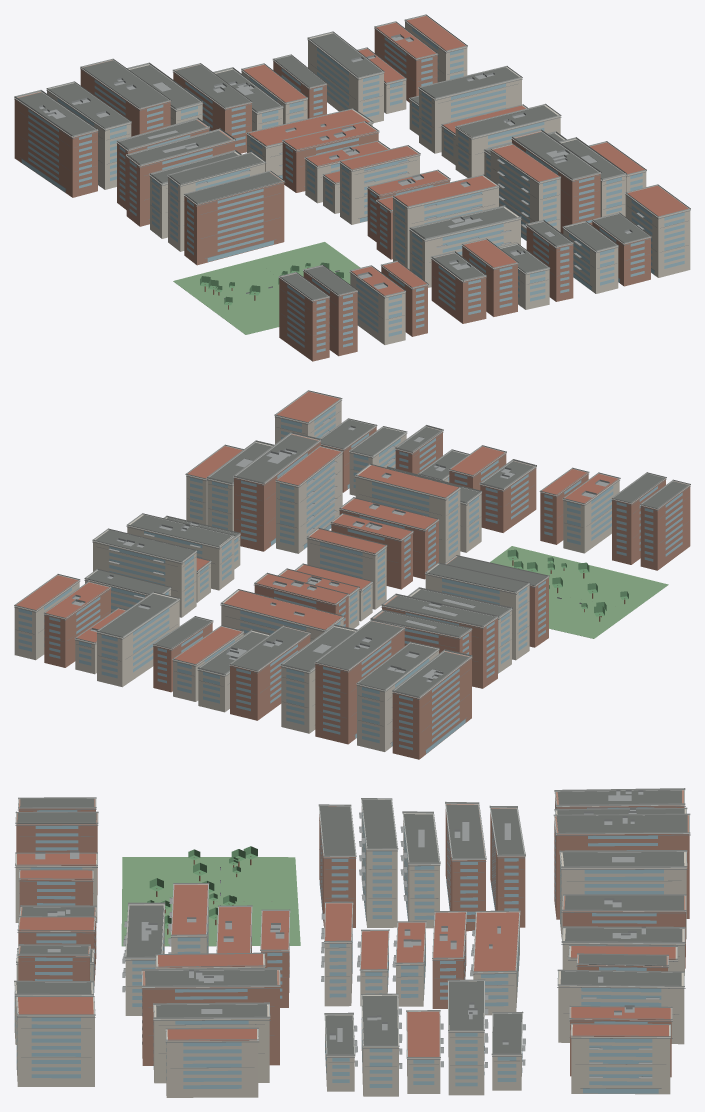
Rendered from tile-p002-p002.glb.
3 renders of one model, top to bottom at view 1: azimuth 30°, elevation 25°; view 2: azimuth 150°, elevation 25°; view 3: azimuth 270°, elevation 25°, orthographic. The views are drawn at different scales.
Parts seen in each view (by area): view 1: neighborhood-park-block-281-mesh-0, building-1113-mesh-27, building-1118-mesh-57, building-1109-mesh-5, building-1259-mesh-238, building-1251-mesh-201, building-1263-mesh-265, building-1253-mesh-207, building-1186-mesh-119, building-1180-mesh-83, building-1187-mesh-126, building-1116-mesh-45 (+84 smaller); view 2: neighborhood-park-block-281-mesh-0, building-1118-mesh-57, building-1120-mesh-70, building-1253-mesh-207, building-1109-mesh-5, building-1263-mesh-265, building-1254-mesh-213, building-1259-mesh-238, building-1186-mesh-119, building-1193-mesh-165, building-1265-mesh-279, building-1180-mesh-83 (+83 smaller); view 3: neighborhood-park-block-281-mesh-0, building-1251-mesh-201, building-1266-mesh-285, building-1256-mesh-226, building-1254-mesh-213, building-1263-mesh-265, building-1121-mesh-76, building-1120-mesh-70, building-1188-mesh-137, building-1120-mesh-73, building-1255-mesh-219, building-1266-mesh-286 (+94 smaller).
Boxes of the visible parts, x1,y1,x2,y2 form: neighborhood-park-block-281-mesh-0: (173,242,360,334); building-1113-mesh-27: (184,172,284,265); building-1118-mesh-57: (14,92,97,197); building-1109-mesh-5: (279,274,329,361); building-1259-mesh-238: (419,67,521,153); building-1251-mesh-201: (625,194,690,277); building-1263-mesh-265: (308,33,383,123); building-1253-mesh-207: (490,150,560,240); building-1186-mesh-119: (393,176,498,269); building-1180-mesh-83: (431,253,486,323); building-1187-mesh-126: (409,207,520,287); building-1116-mesh-45: (126,130,234,226); neighborhood-park-block-281-mesh-0: (490,546,668,638); building-1118-mesh-57: (392,651,471,759); building-1120-mesh-70: (315,621,404,744); building-1253-mesh-207: (276,452,342,553); building-1109-mesh-5: (640,481,690,570); building-1263-mesh-265: (97,593,179,687); building-1254-mesh-213: (234,434,320,551); building-1259-mesh-238: (93,530,196,617); building-1186-mesh-119: (355,465,460,563); building-1193-mesh-165: (230,627,310,720); building-1265-mesh-279: (44,588,110,667); building-1180-mesh-83: (480,461,536,532); neighborhood-park-block-281-mesh-0: (121,857,300,946); building-1251-mesh-201: (16,997,94,1086); building-1266-mesh-285: (571,1025,670,1094); building-1256-mesh-226: (166,1029,258,1097); building-1254-mesh-213: (142,970,279,1065); building-1263-mesh-265: (558,971,684,1044); building-1121-mesh-76: (560,852,686,939); building-1120-mesh-70: (554,815,689,919); building-1188-mesh-137: (474,912,519,971); building-1120-mesh-73: (556,815,687,832); building-1255-mesh-219: (153,1004,269,1083); building-1266-mesh-286: (583,1038,658,1093).
Bounding box in the file's own units: 243 × 41.68 × 289.
